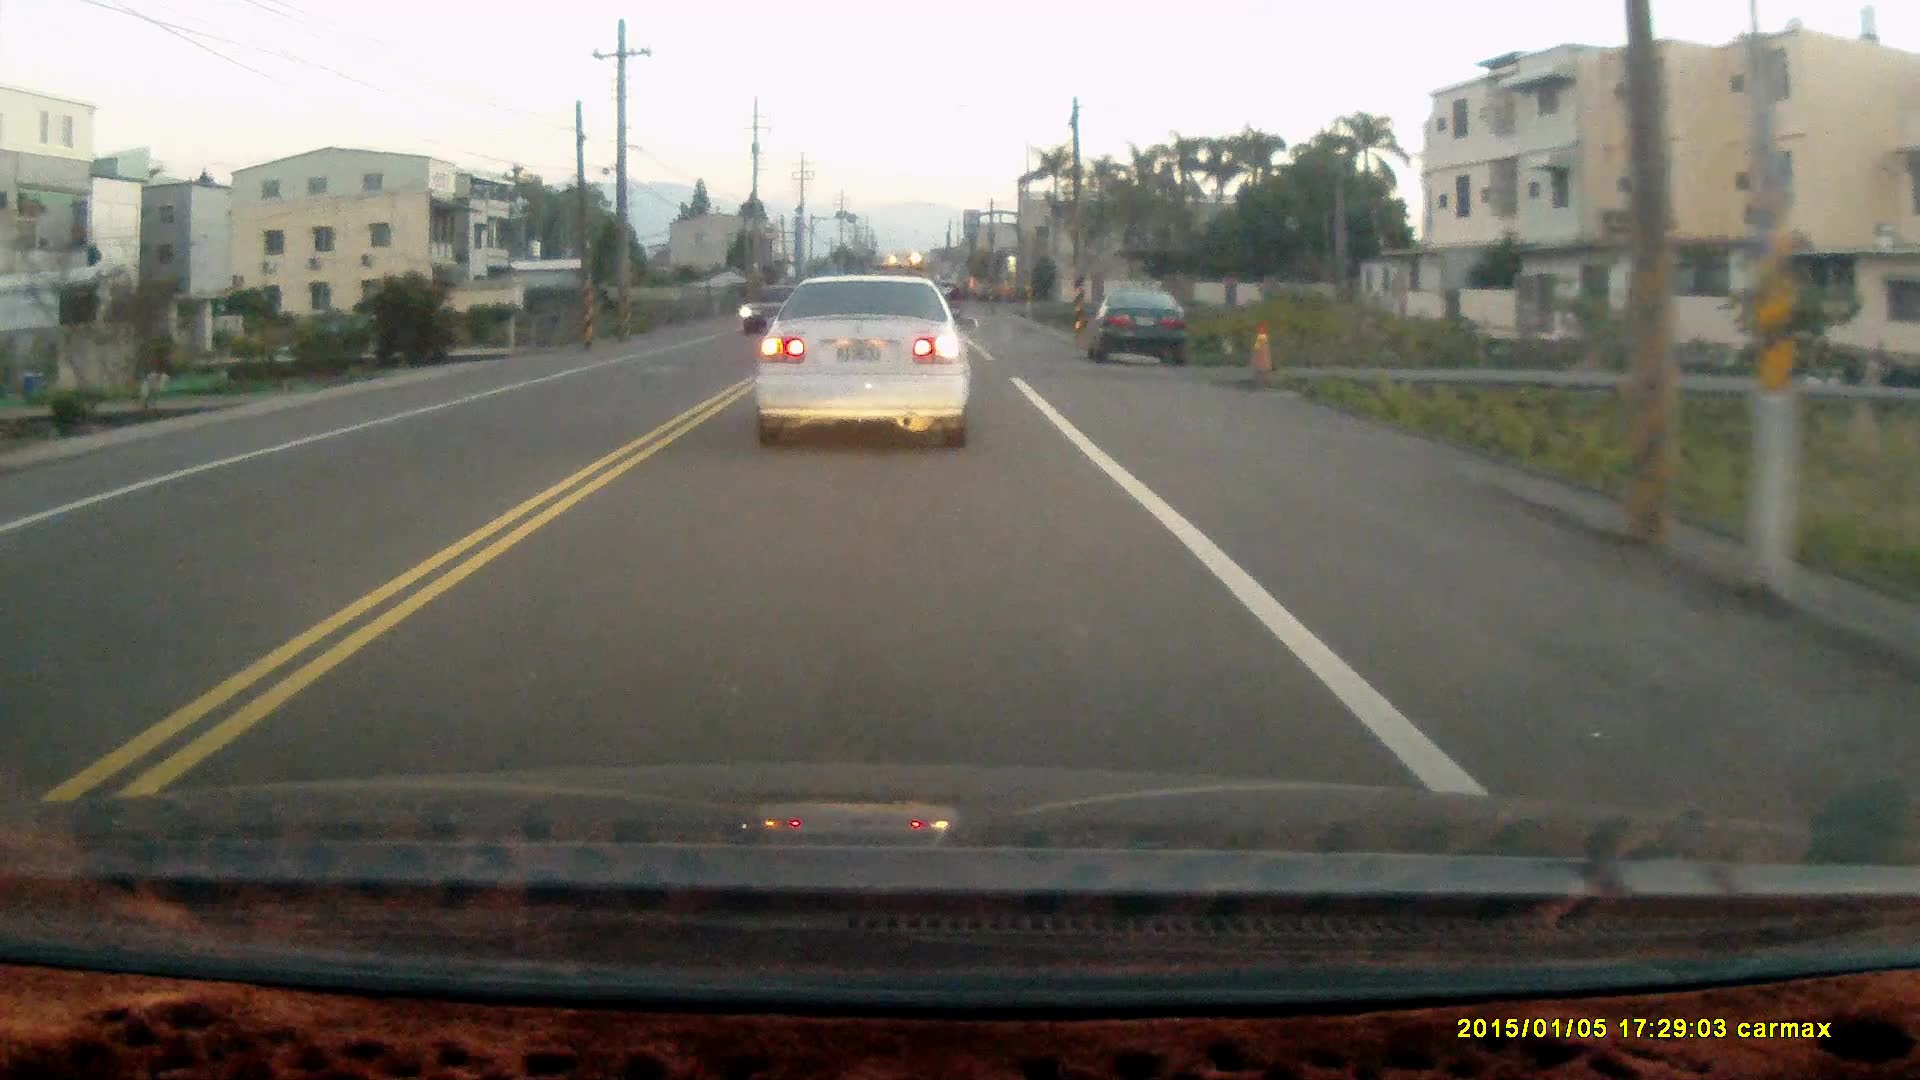vehicle: (752, 274, 971, 458), (1088, 290, 1188, 368), (740, 285, 800, 338)
